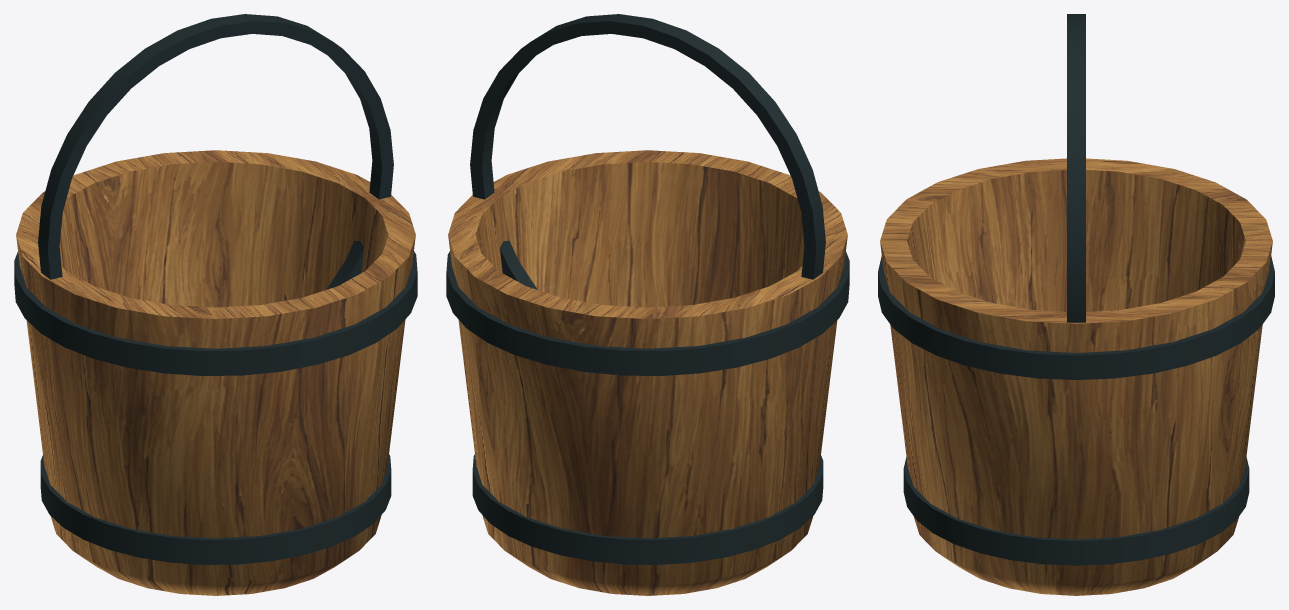
Rendered from 26_Cubo.obj.
3 views of the same model, side by side, from view 1: azimuth 30°, elevation 25°; view 2: azimuth 150°, elevation 25°; view 3: azimuth 270°, elevation 25° (orthographic).
Parts seen in each view (by area): view 1: 26_Cubo_Wood, 26_Cubo_Iron; view 2: 26_Cubo_Wood, 26_Cubo_Iron; view 3: 26_Cubo_Wood, 26_Cubo_Iron.
Part boxes in pixels (<box>): 26_Cubo_Wood: <box>16,150,415,595</box>; 26_Cubo_Iron: <box>14,14,417,564</box>; 26_Cubo_Wood: <box>448,150,847,595</box>; 26_Cubo_Iron: <box>446,14,849,564</box>; 26_Cubo_Wood: <box>880,158,1272,595</box>; 26_Cubo_Iron: <box>878,14,1274,565</box>.
Bounding box in the file's own units: 0.586 × 0.825 × 0.586.
2 materials, 1 textured.
